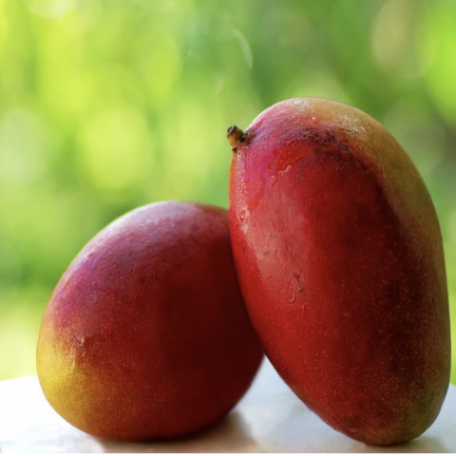mango: (200, 93, 455, 456), (13, 198, 297, 452)
